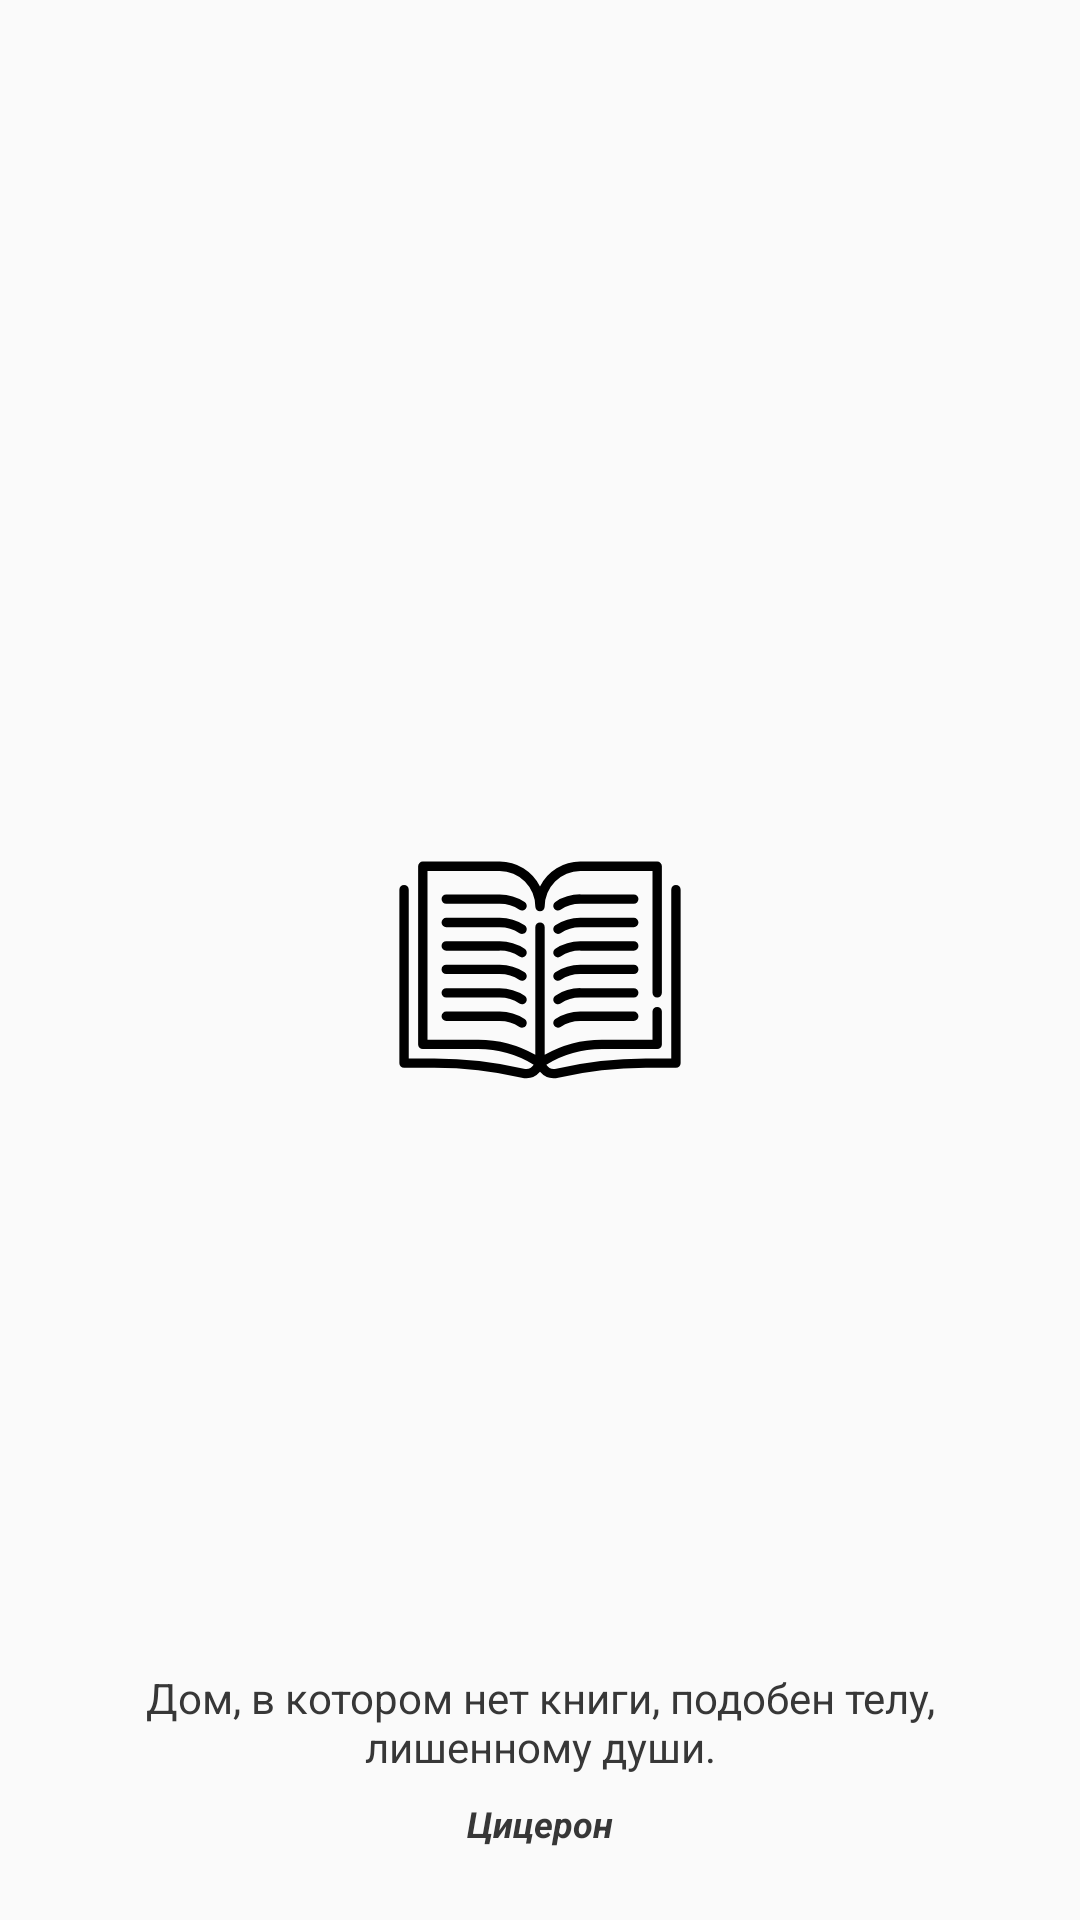

Icon click points for this 1080*1920 phone screenshot, format [x,y]:
book first: [540,970]
